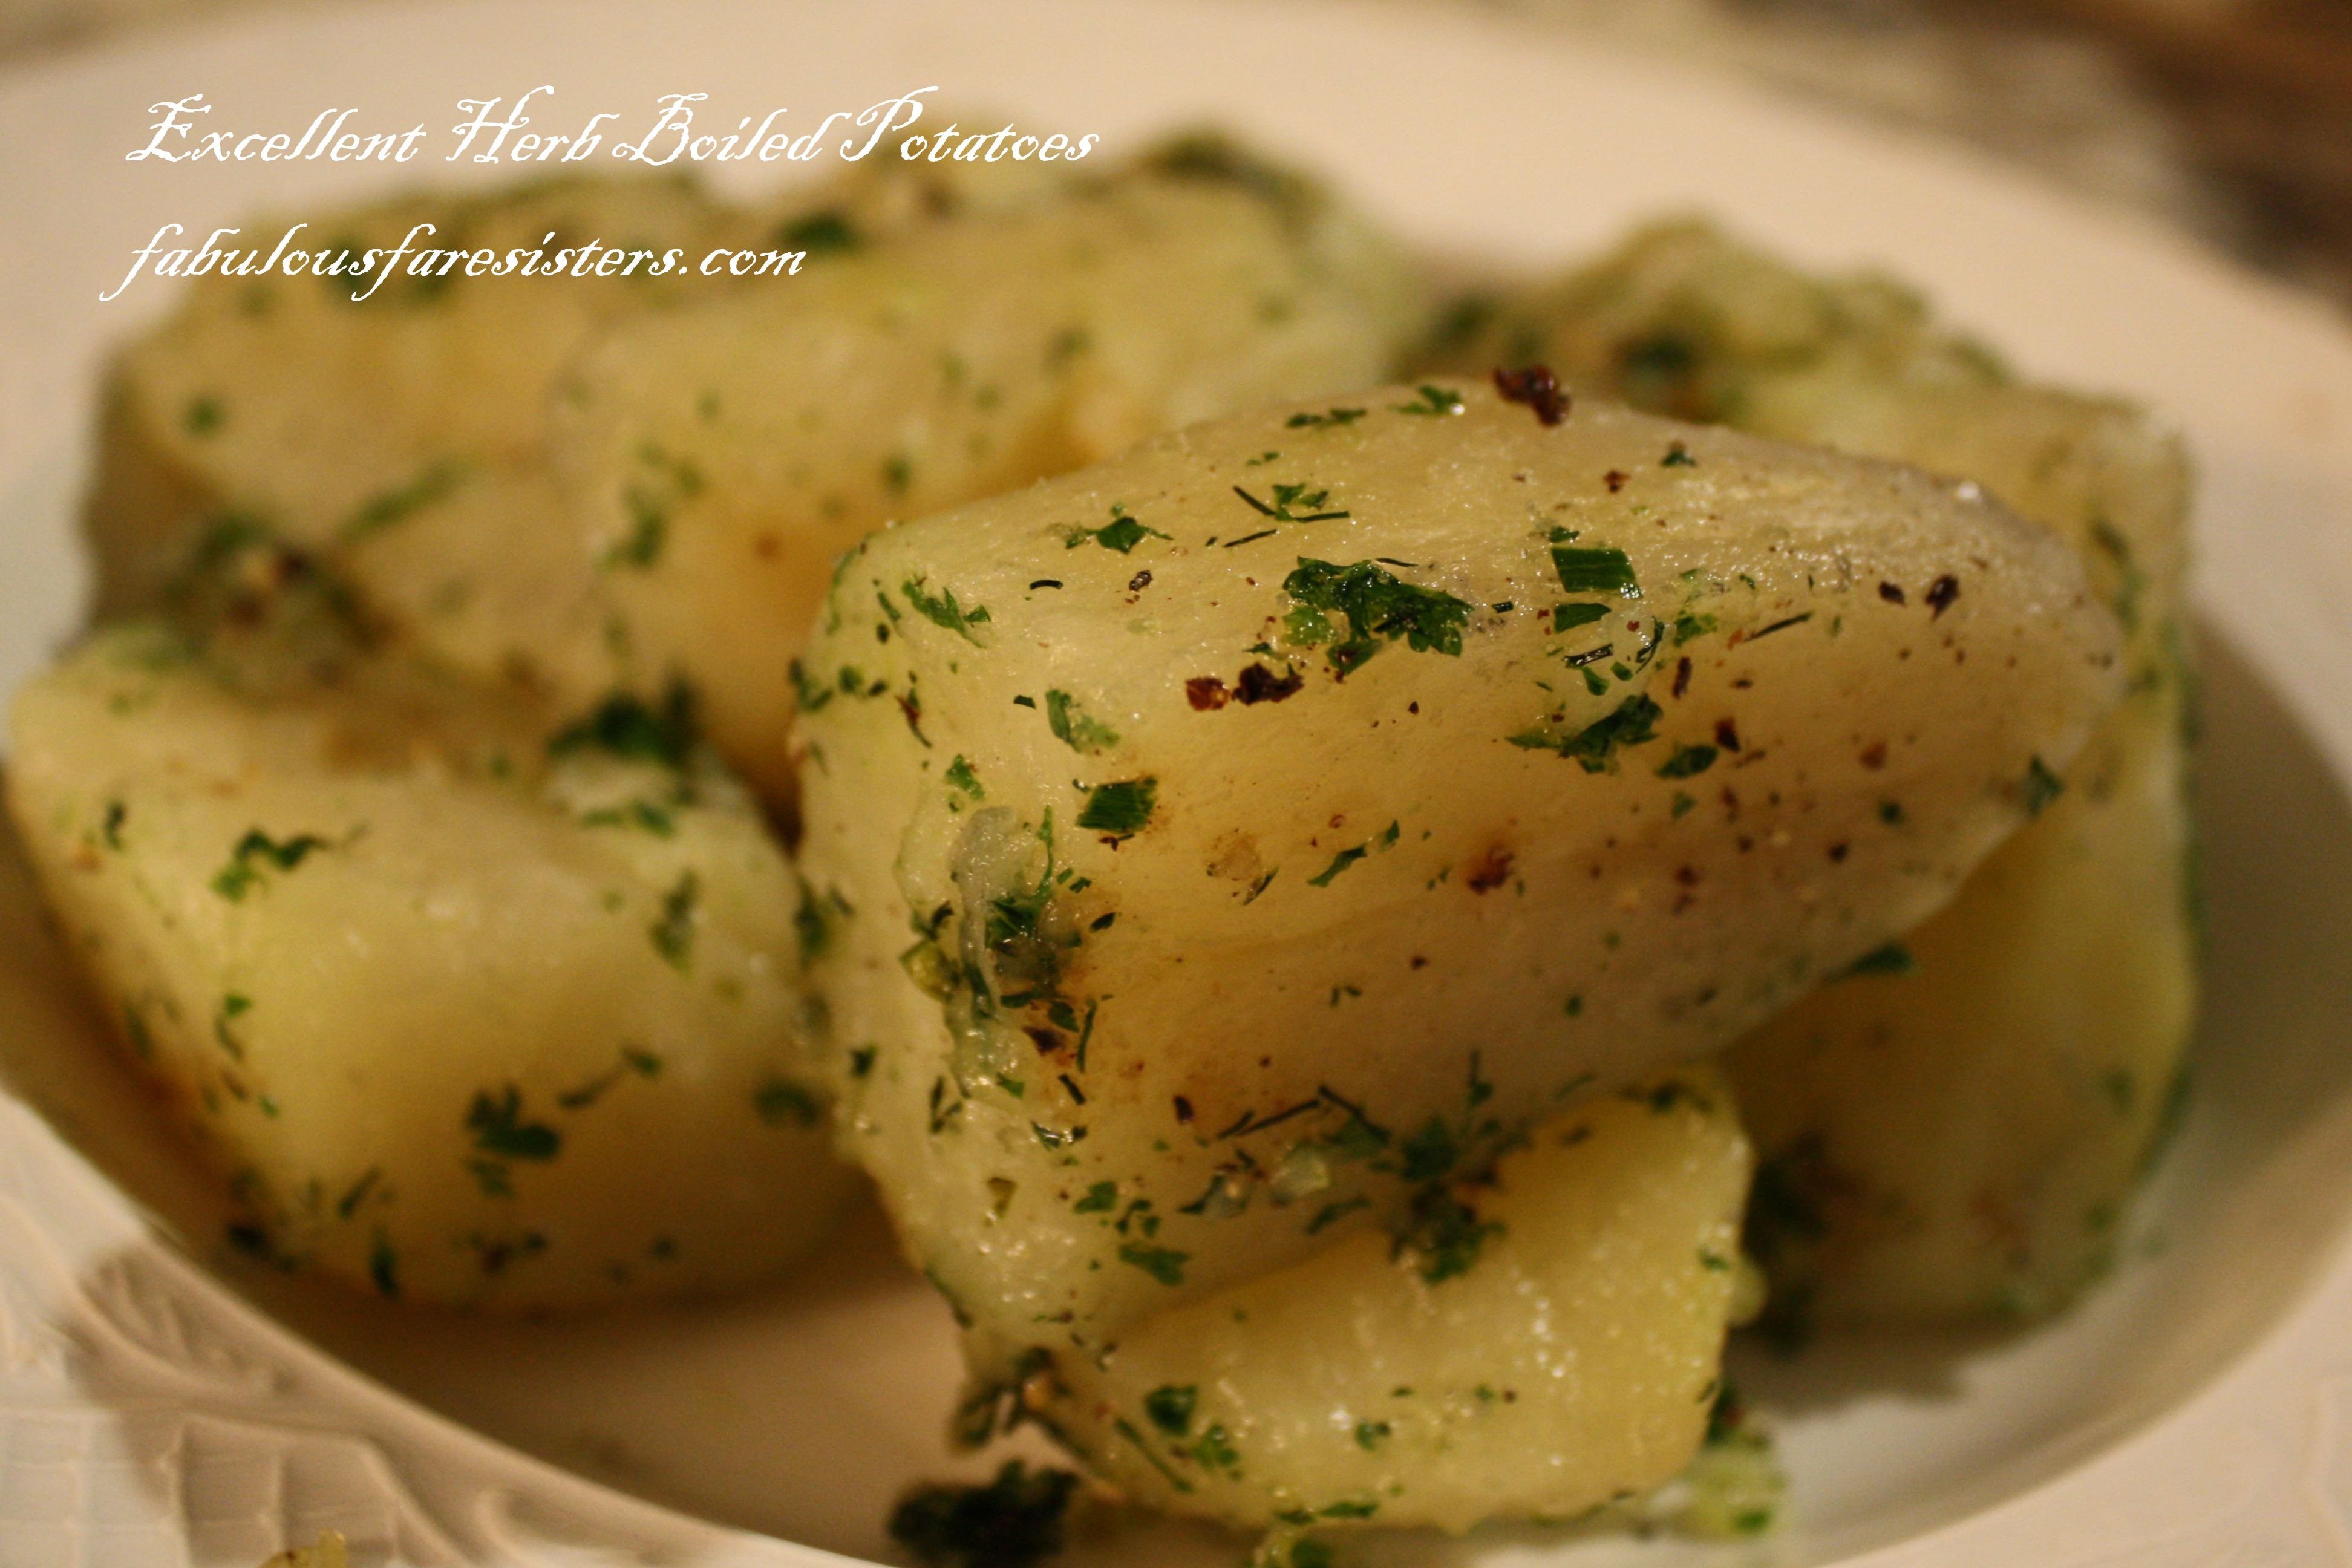boiled potatoes: (801, 439, 2040, 1104)
